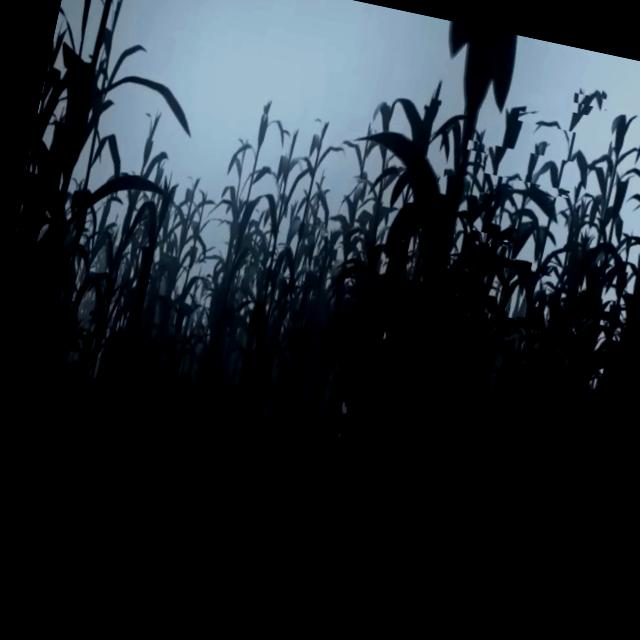boy: (334, 394, 356, 442)
